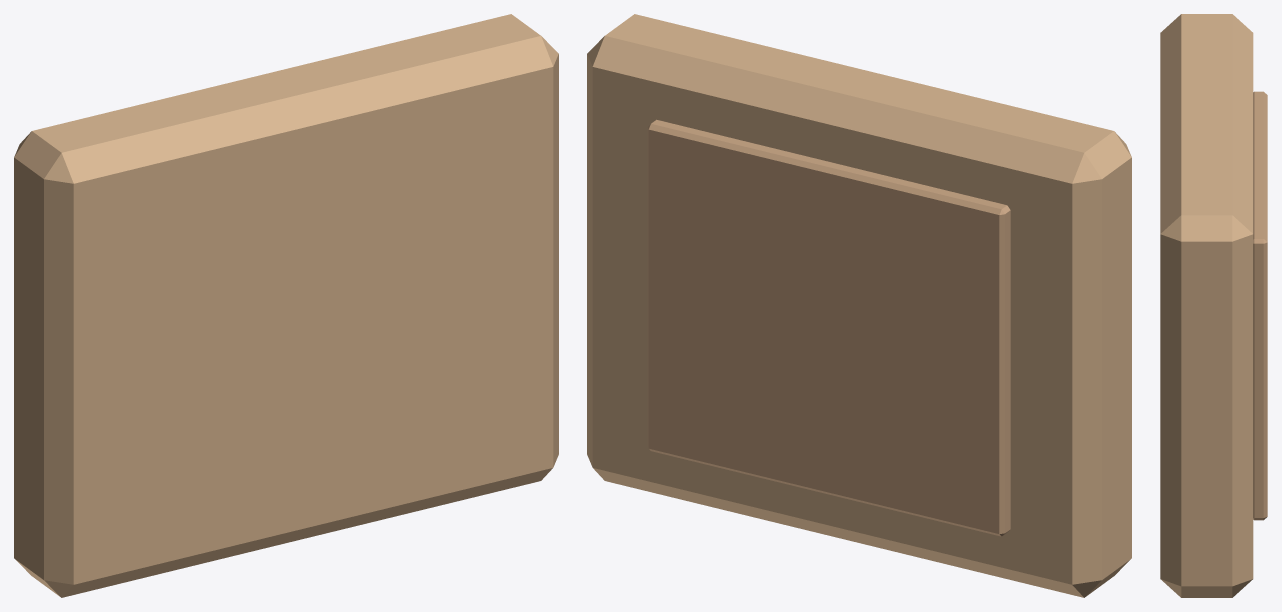
File: LegRestLeft.glb
3 renders of one model, left to right at view 1: azimuth 30°, elevation 25°; view 2: azimuth 150°, elevation 25°; view 3: azimuth 270°, elevation 25°, orthographic. The views are drawn at different scales.
Parts seen in each view (by area): view 1: LegRestLeft_SandUpholstery; view 2: LegRestLeft_SandUpholstery, LegRestLeft_SeatInsert; view 3: LegRestLeft_SandUpholstery, LegRestLeft_SeatInsert.
Boxes of the visible parts, x1,y1,x2,y2 form: LegRestLeft_SandUpholstery: [14, 14, 558, 597]; LegRestLeft_SandUpholstery: [587, 14, 1131, 597]; LegRestLeft_SeatInsert: [647, 119, 1010, 536]; LegRestLeft_SandUpholstery: [1160, 14, 1253, 597]; LegRestLeft_SeatInsert: [1253, 91, 1267, 520].
Size of the model in its own units: 0.4116 by 0.34 by 0.0865.
